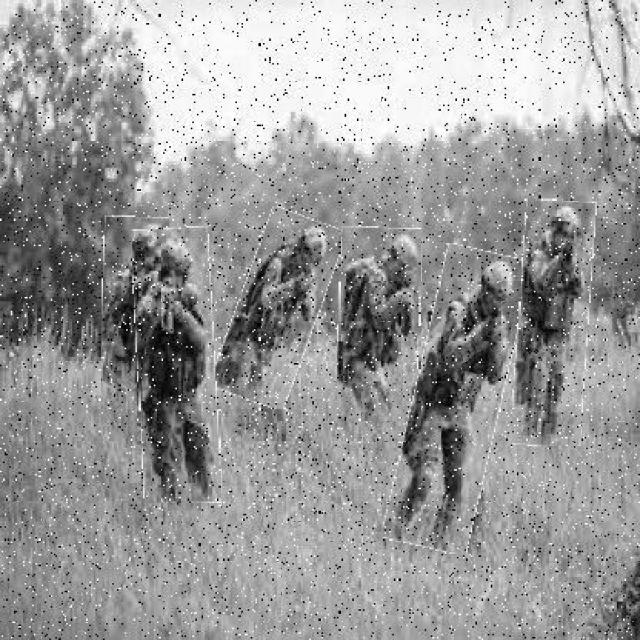Person: (399, 247, 518, 555), (135, 229, 218, 504), (224, 212, 333, 409), (515, 200, 593, 449), (338, 229, 421, 424), (101, 218, 169, 386)
